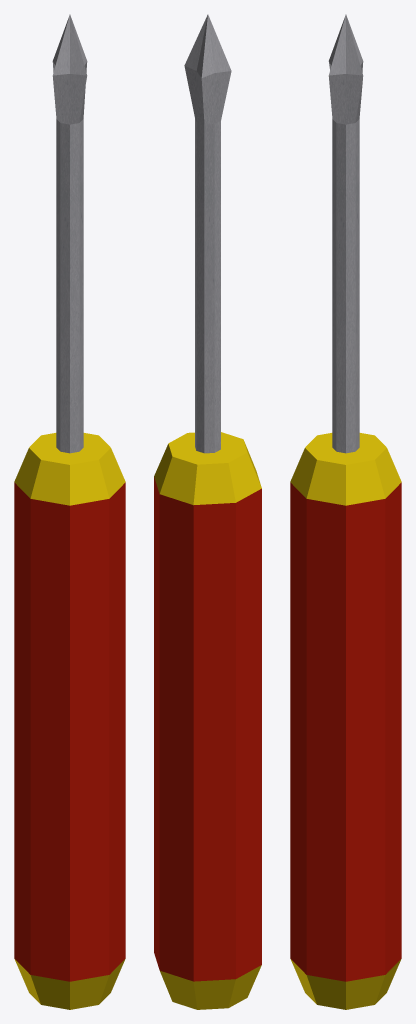
File: Elec_screwdriver.fbx
The picture shows the model from 3 angles, left to right: view 1: azimuth 90°, elevation 25°; view 2: azimuth 210°, elevation 25°; view 3: azimuth 270°, elevation 25°; orthographic projection.
Visible parts, largest first — view 1: Cylinder; view 2: Cylinder; view 3: Cylinder.
Boxes of the visible parts, left/top/right/bottom form: Cylinder: left=14, top=14, right=125, bottom=1009; Cylinder: left=154, top=14, right=261, bottom=1009; Cylinder: left=290, top=14, right=401, bottom=1009.
Bounding box in the file's own units: 42.42 × 410 × 42.42.
1 material, 1 textured.
